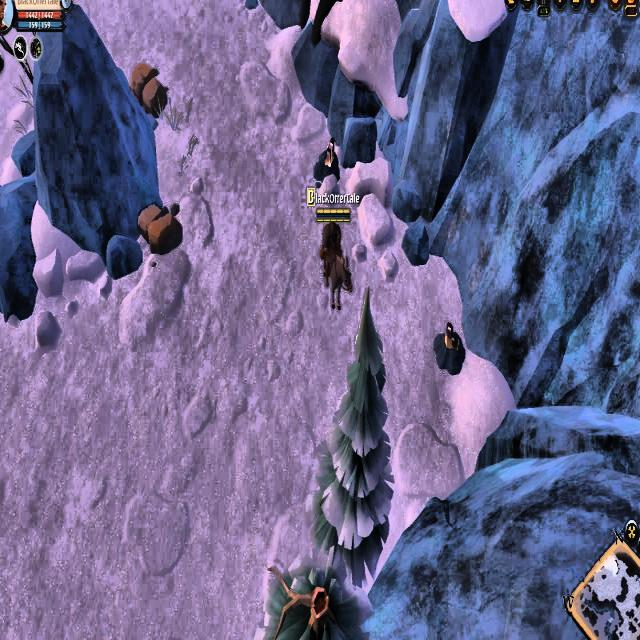copperore: (433, 317, 465, 374), (312, 138, 341, 190)
limestone: (134, 199, 181, 252), (126, 60, 169, 116)
